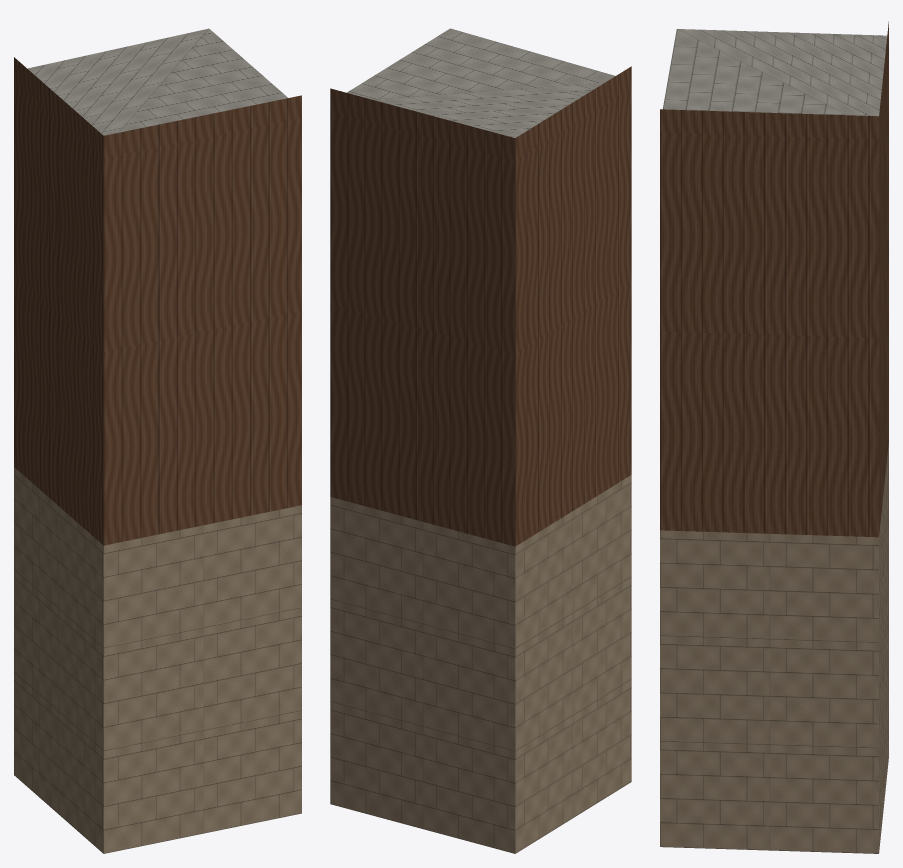
Rendered from bld_c-11_40_521.gltf.
3 renders of one model, left to right at view 1: azimuth 30°, elevation 25°; view 2: azimuth 150°, elevation 25°; view 3: azimuth 270°, elevation 25°, orthographic. The views are drawn at different scales.
Visible parts, largest first — view 1: bld_c-11_40_521; view 2: bld_c-11_40_521; view 3: bld_c-11_40_521.
Boxes of the visible parts, box(x1,y1,x2,y2) form: bld_c-11_40_521: box(14, 28, 301, 853); bld_c-11_40_521: box(330, 28, 631, 853); bld_c-11_40_521: box(660, 21, 888, 853).
Size of the model in its own units: 3.53 by 11.88 by 3.34.
Materials: 4 (4 with a texture image).
